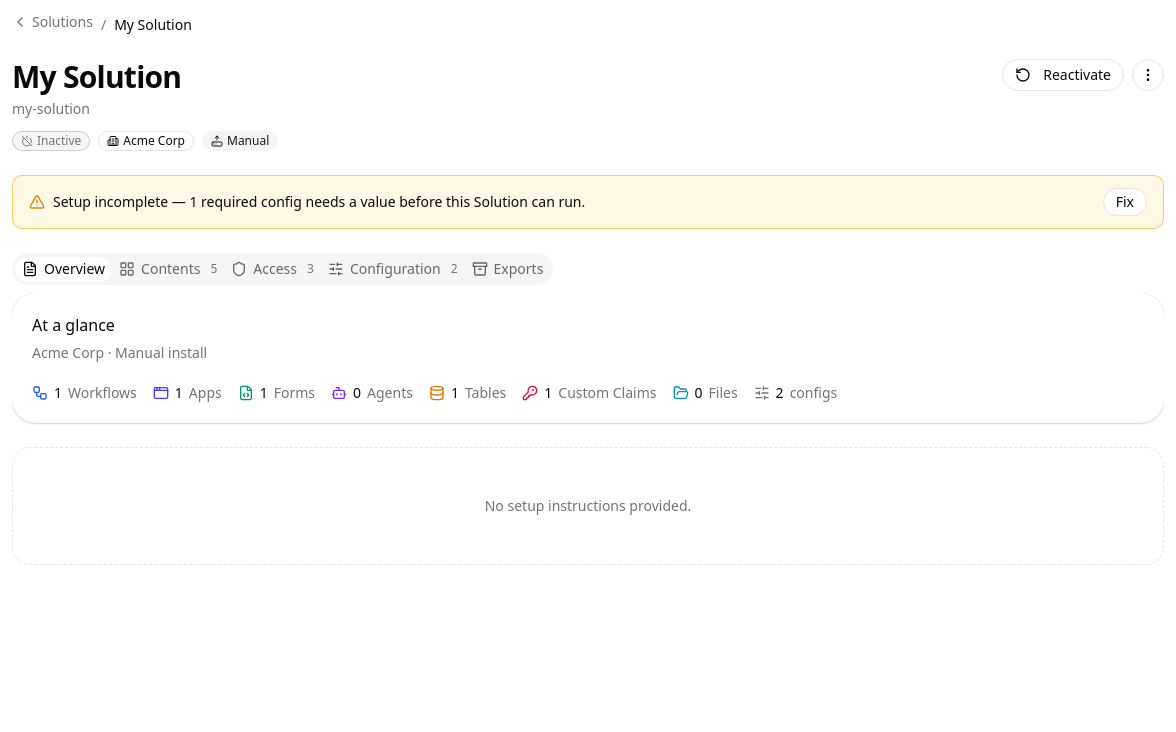
Test: SolutionDetail › shows Reactivate button and no Uninstall in overflow menu for an inactive solution
Check: the button with test id "reactivate-solution" is shown, box left=1002, top=59, right=1124, bottom=91
Check: the element with test id "status-inactive-badge" is shown, box left=12, top=131, right=90, bottom=151
Note: Overflow menu has no Uninstall but still has Delete permanently.
Click the button with test id "solution-actions".
click(1148, 75)  # box left=1132, top=59, right=1164, bottom=91
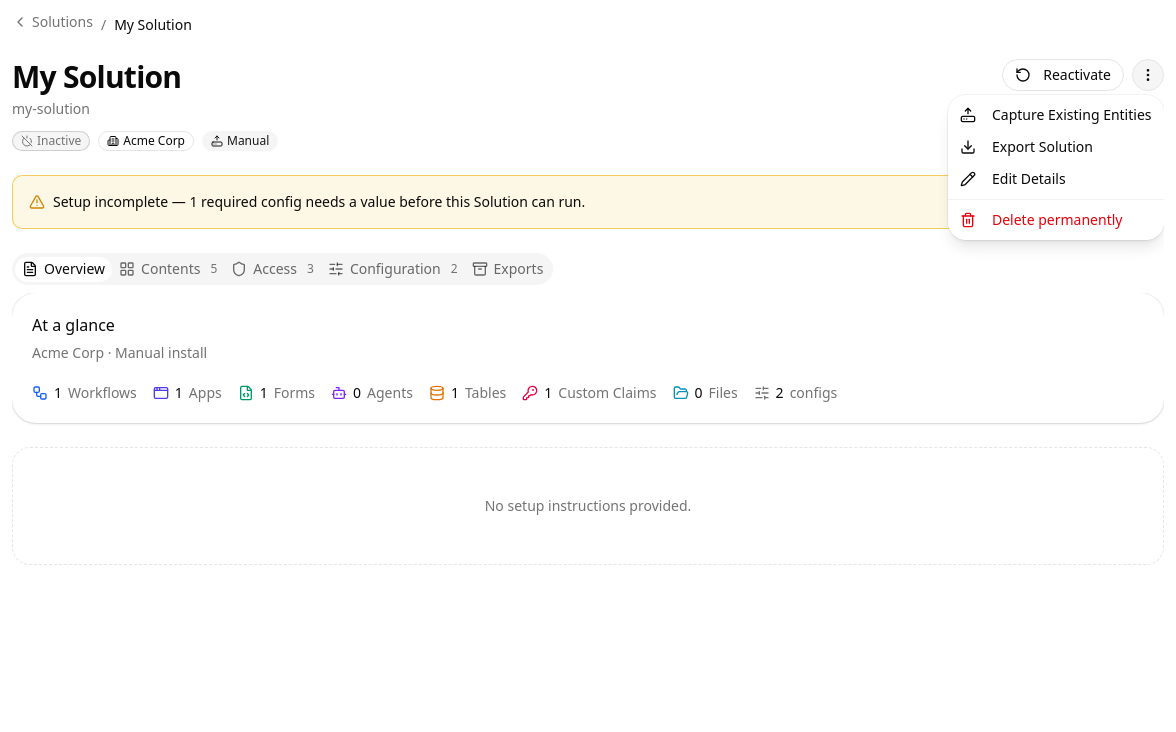
Check: the menu item with test id "hard-delete-solution" is shown, box left=960, top=210, right=1122, bottom=229
